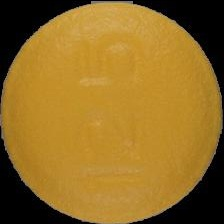60505-3673: (0, 0, 224, 224)
